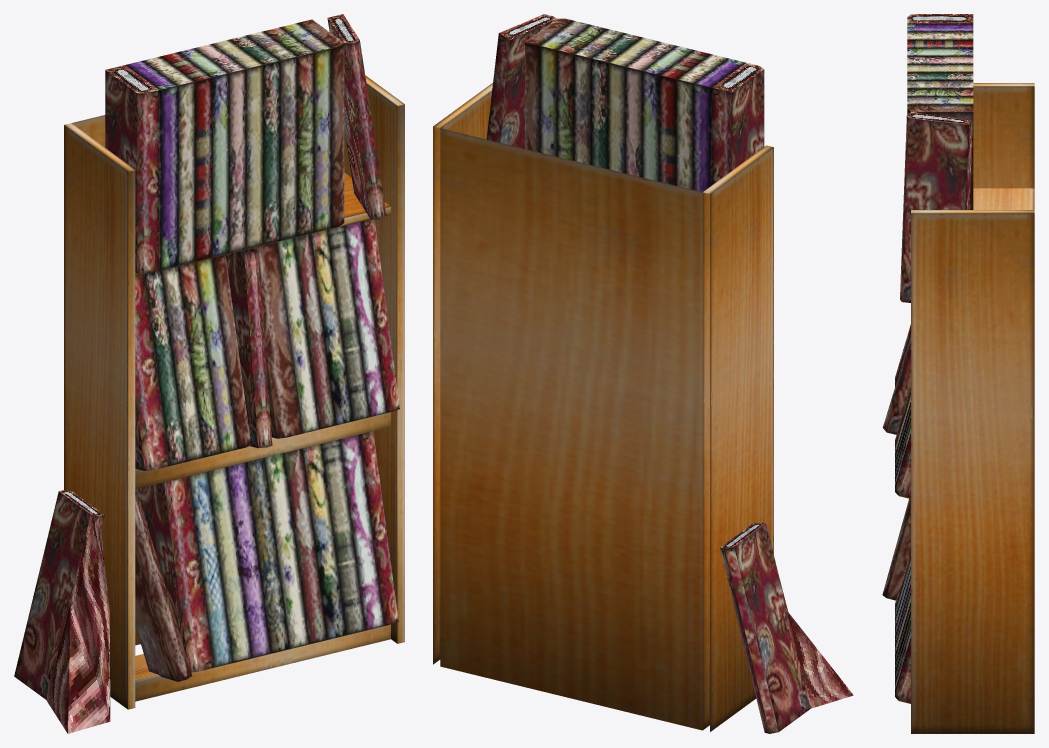
File: fine_cloth.fbx
3 renders of one model, left to right at view 1: azimuth 30°, elevation 25°; view 2: azimuth 150°, elevation 25°; view 3: azimuth 270°, elevation 25°, orthographic. The views are drawn at different scales.
Parts seen in each view (by area): view 1: mesh_0, mesh_1; view 2: mesh_0, mesh_1; view 3: mesh_0, mesh_1.
Part boxes in pixels (left/top/right/bottom): mesh_0: left=14, top=18, right=404, bottom=709; mesh_1: left=46, top=14, right=359, bottom=733; mesh_0: left=433, top=18, right=810, bottom=733; mesh_1: left=499, top=14, right=853, bottom=708; mesh_0: left=882, top=23, right=1034, bottom=733; mesh_1: left=907, top=14, right=973, bottom=124.
Size of the model in its own units: 188 by 318 by 73.82.
2 materials, 2 textured.
